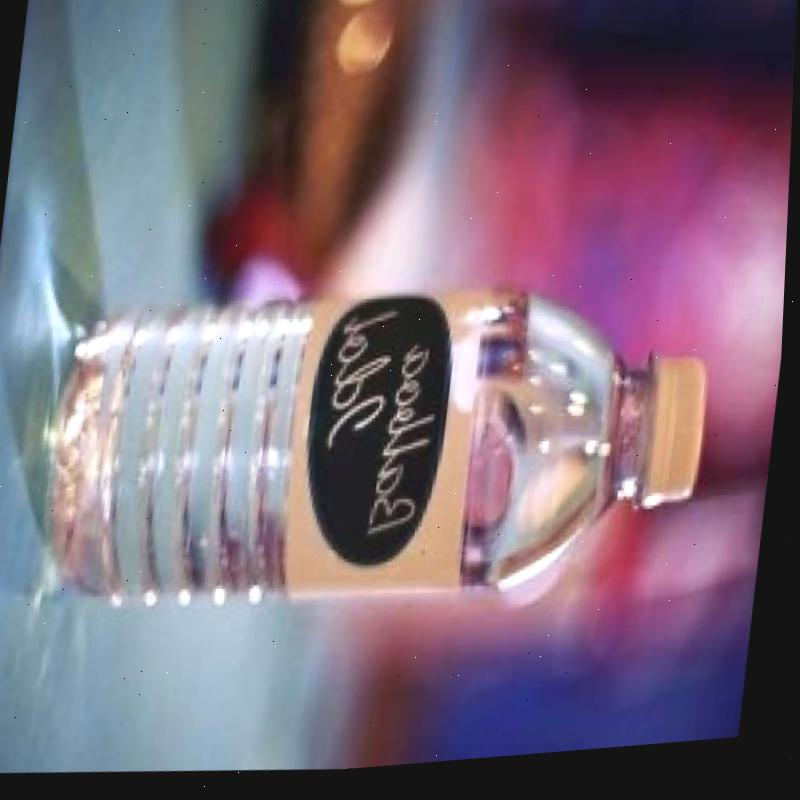botella: (31, 252, 725, 660)
